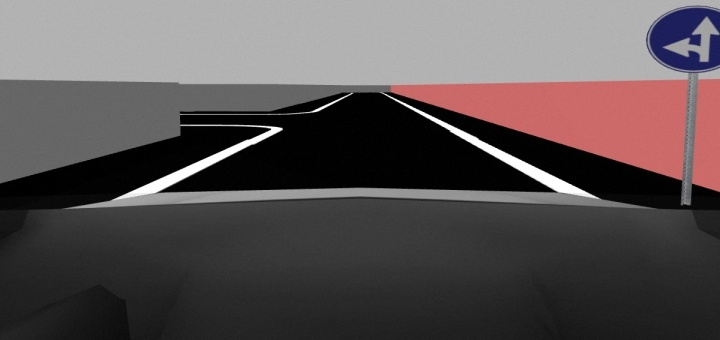ileri_sola: (644, 3, 720, 70)
